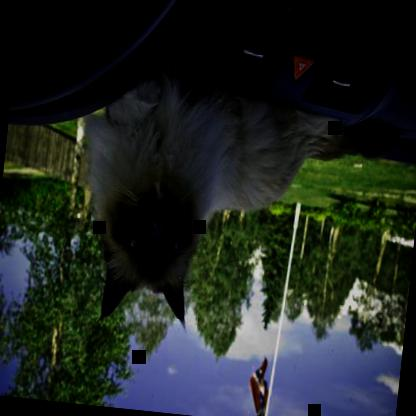cat: (64, 55, 403, 349)
